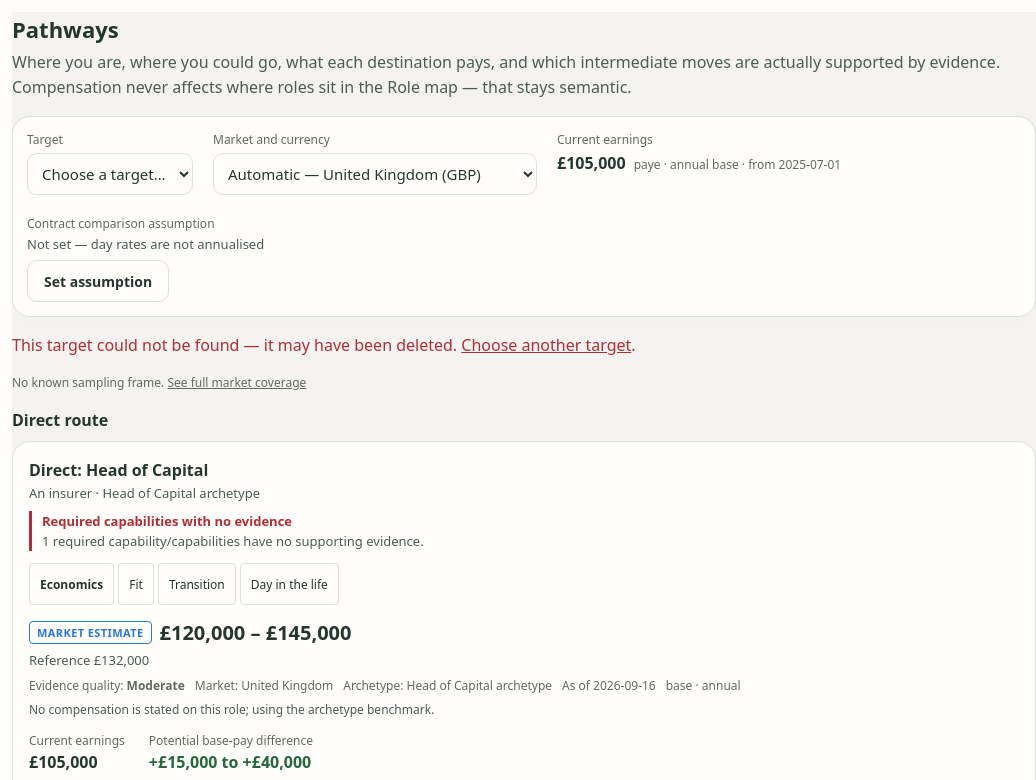
Test: Pathways › shows structural fit and the blocking gap under Fit
Expected: the text "Direct: Head of Capital" is shown, [29,459,208,481]
Click the tab "Fit".
click(136, 584)  # box [118,563,154,605]
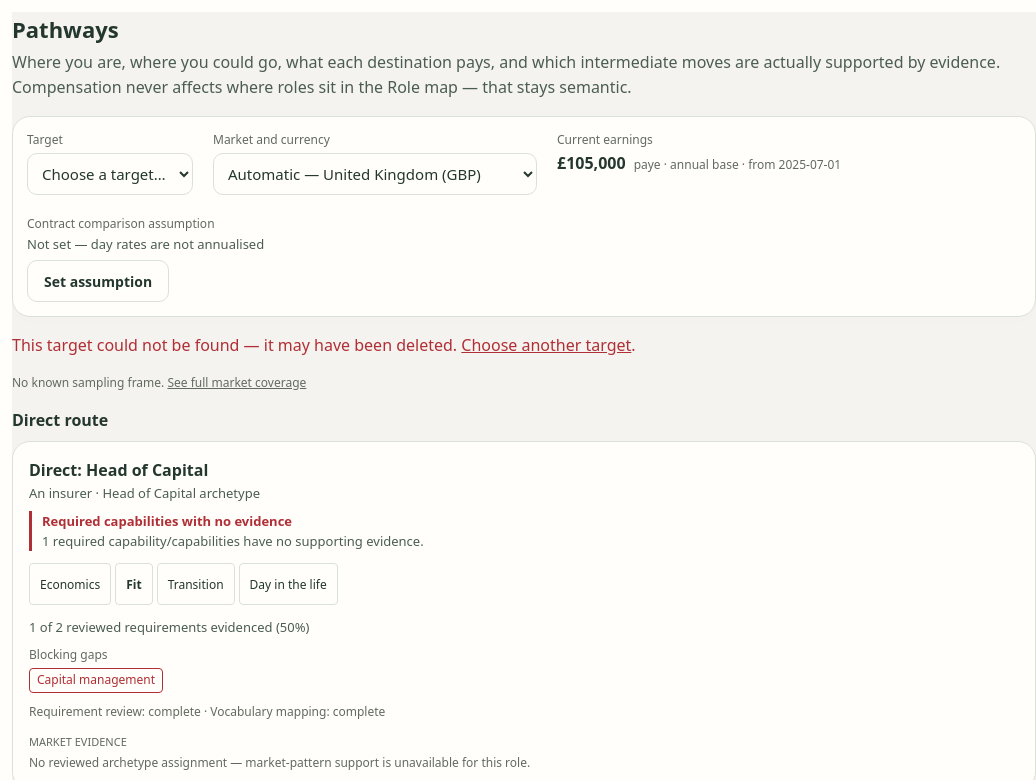
Result: the text "1 of 2 reviewed requirements evidenced (50%)" is shown at [29,618,309,636]
Result: the text "Blocking gaps" is shown at [29,646,108,663]
Result: the text "Capital management" is shown at [29,668,163,693]
